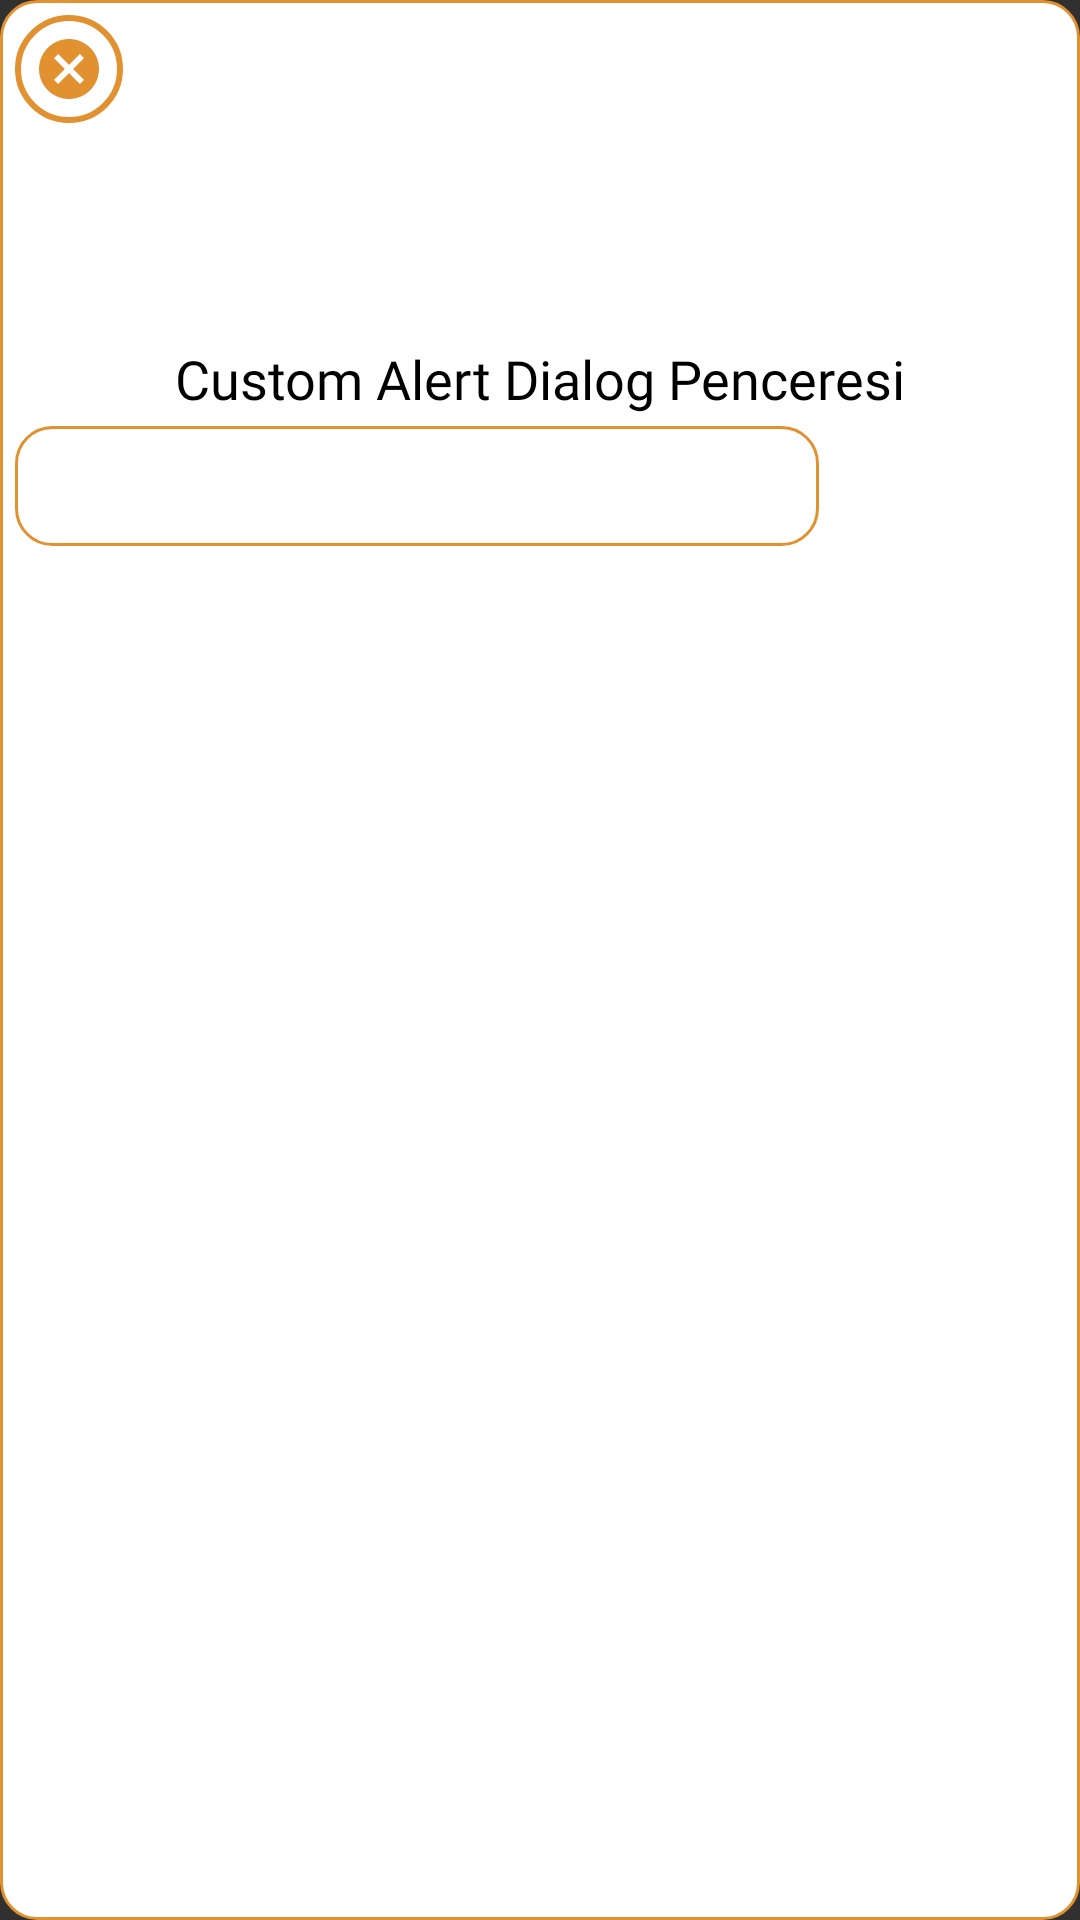

Where icons sit on this 1080 x 1920 app screen, as (x1, y1, x2, y2):
cancel: (15, 15, 123, 123)
